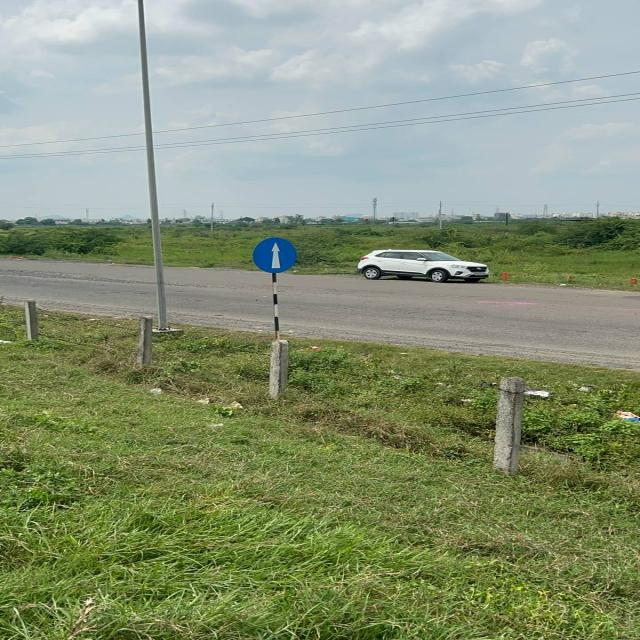compulsory_ahead: (252, 237, 300, 274)
